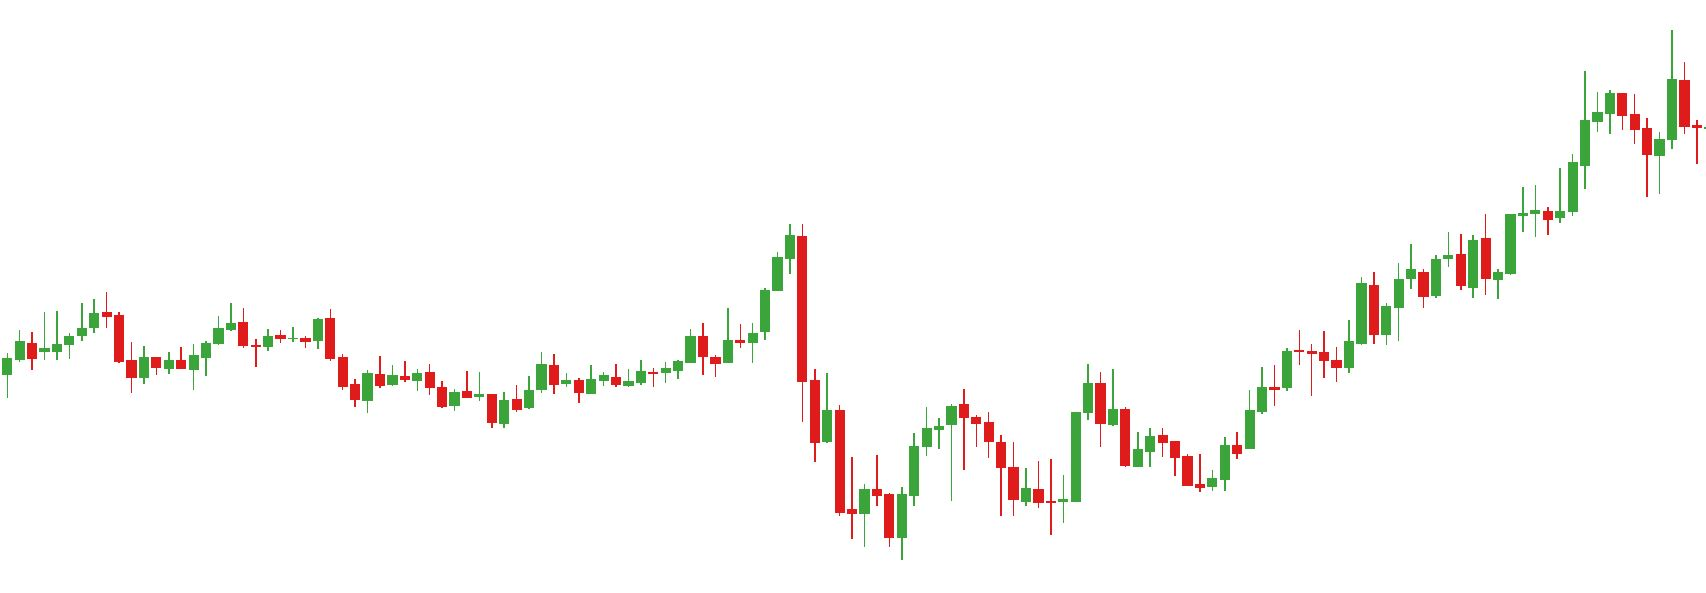sell: (956, 365, 1107, 475)
